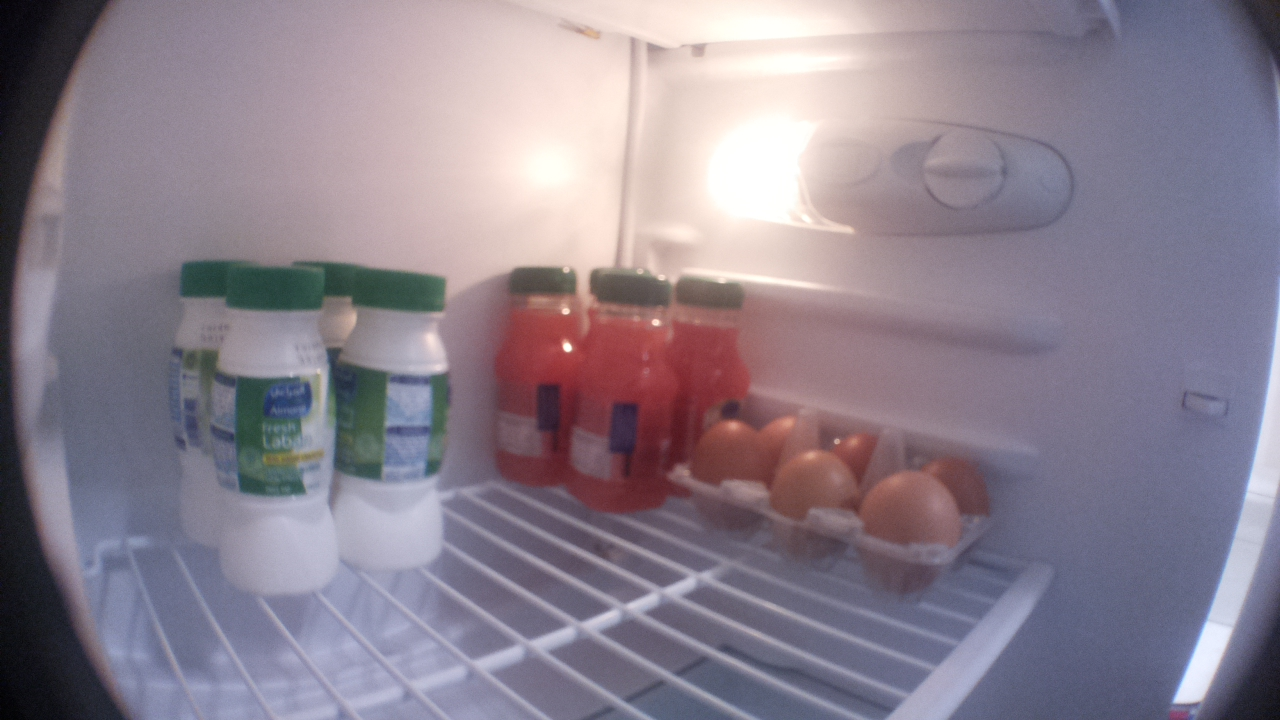egg: (848, 468, 964, 606), (767, 447, 856, 555), (690, 421, 769, 530), (922, 453, 996, 518), (822, 426, 894, 483), (758, 404, 820, 465)
juice: (575, 274, 684, 508), (485, 265, 581, 486), (676, 270, 756, 428)
laban: (212, 266, 342, 600), (343, 264, 458, 579), (156, 249, 229, 553), (294, 255, 365, 380)
